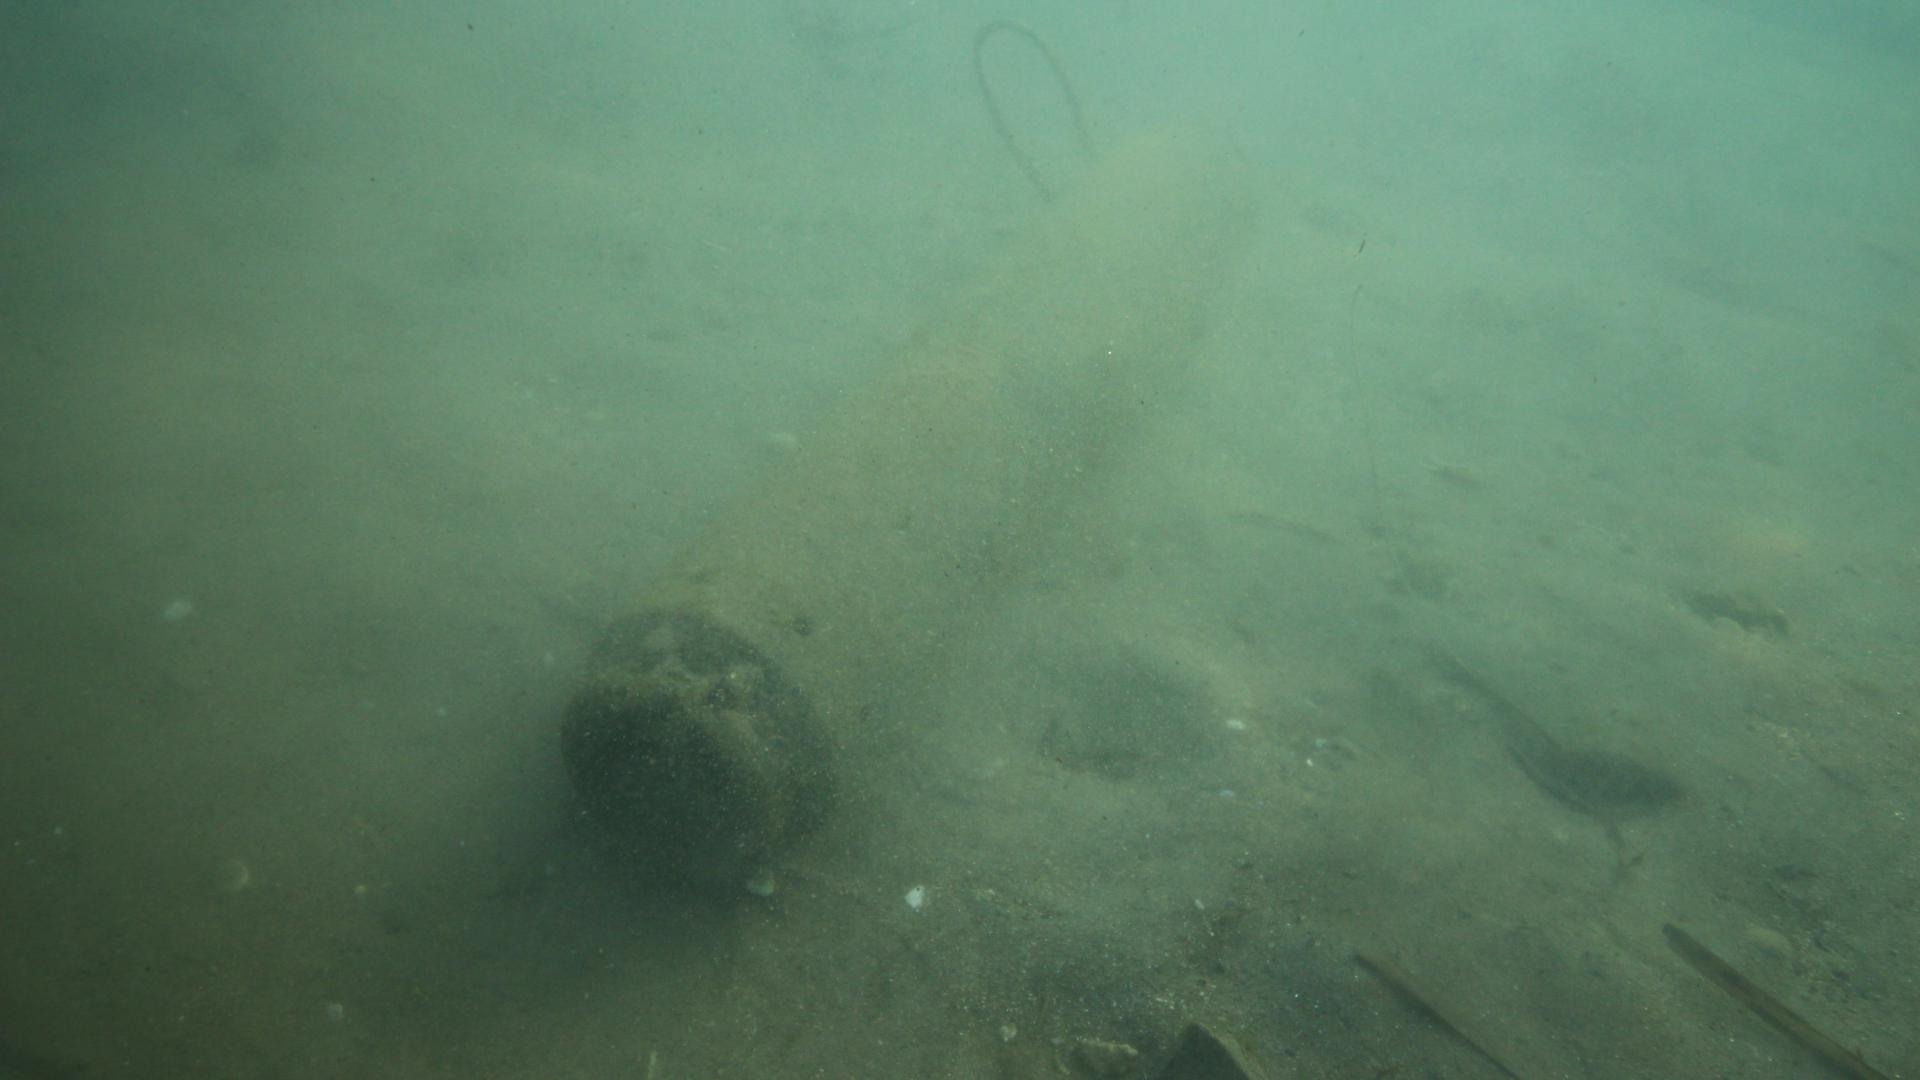eel fish trap: (560, 121, 1254, 886)
rope: (965, 16, 1105, 200)
